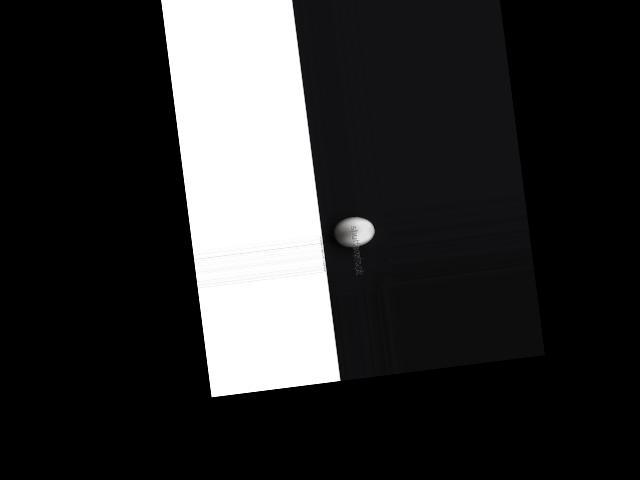egg: (332, 214, 376, 249)
